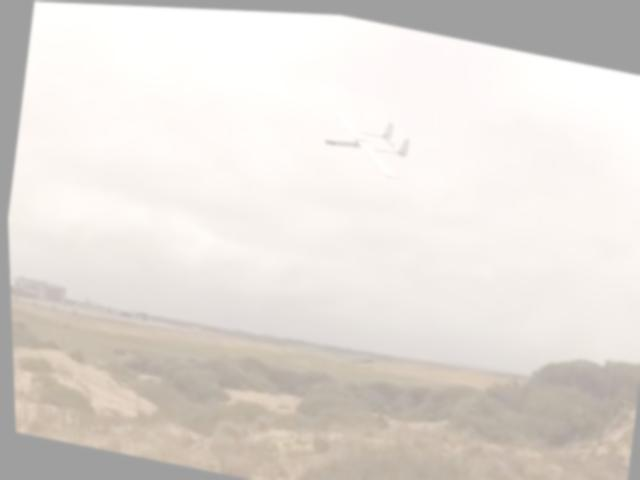uav: (310, 95, 423, 185)
